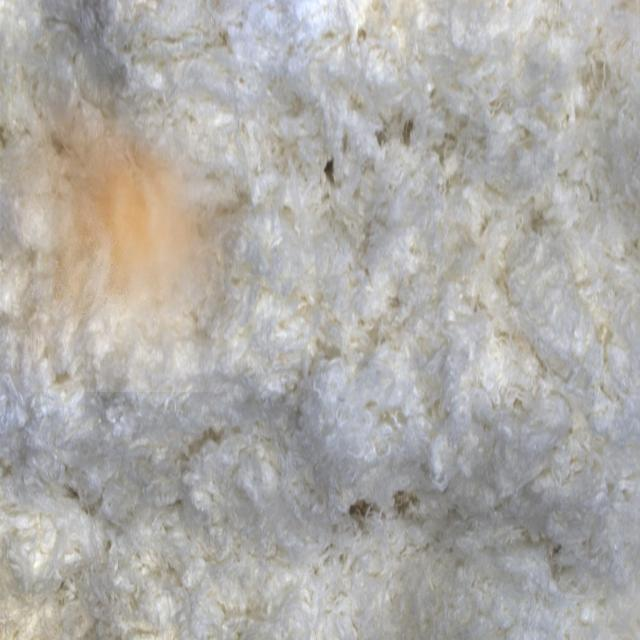dust: (1, 77, 248, 392)
